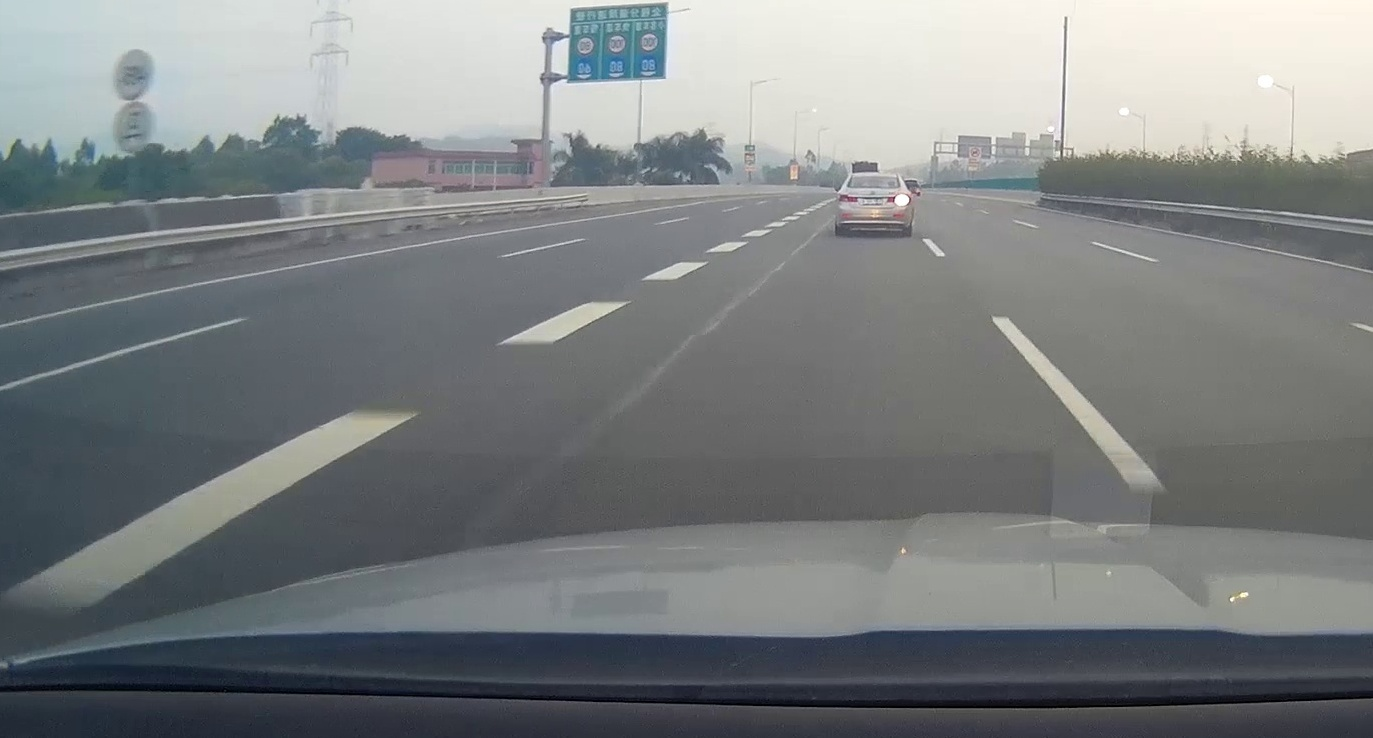L_light: (838, 194, 858, 203)
R_light: (888, 195, 910, 204)
T_light: (868, 176, 879, 178)
day-right: (836, 172, 913, 237)
